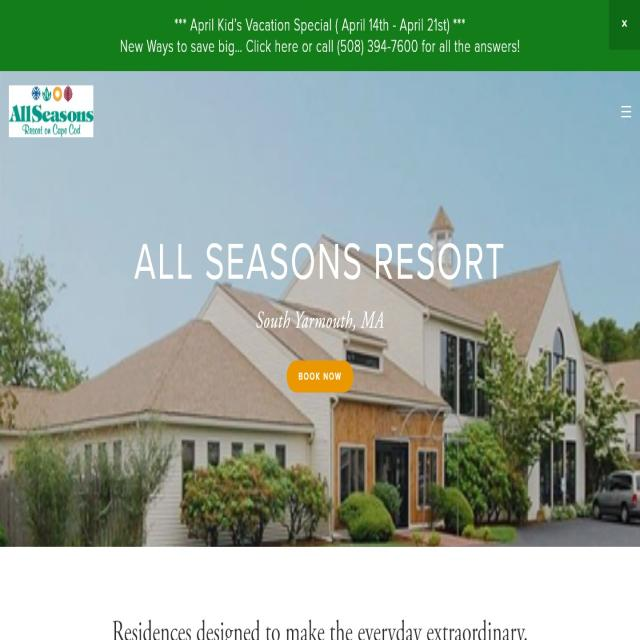button: (284, 357, 356, 395), (615, 92, 639, 128)
heading: (128, 224, 509, 292)
iframe: (2, 1, 640, 69)
image: (0, 72, 638, 548), (7, 85, 94, 140)
text: (112, 616, 530, 640), (246, 302, 393, 341)
